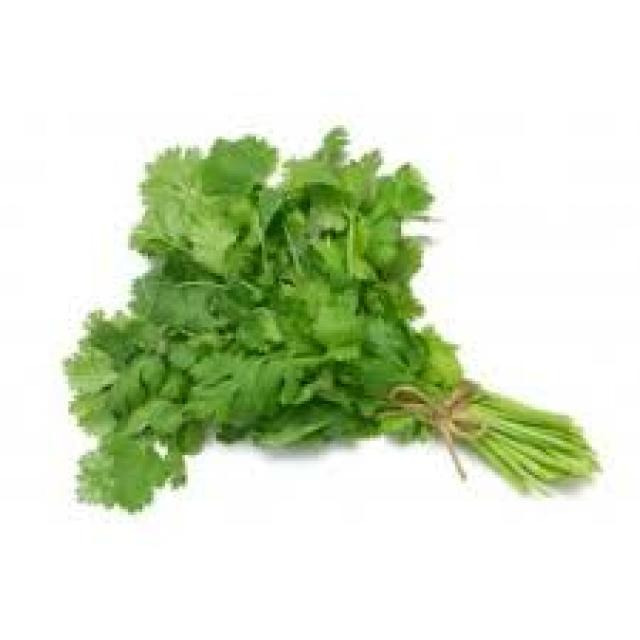organic waste: (60, 122, 597, 501)
